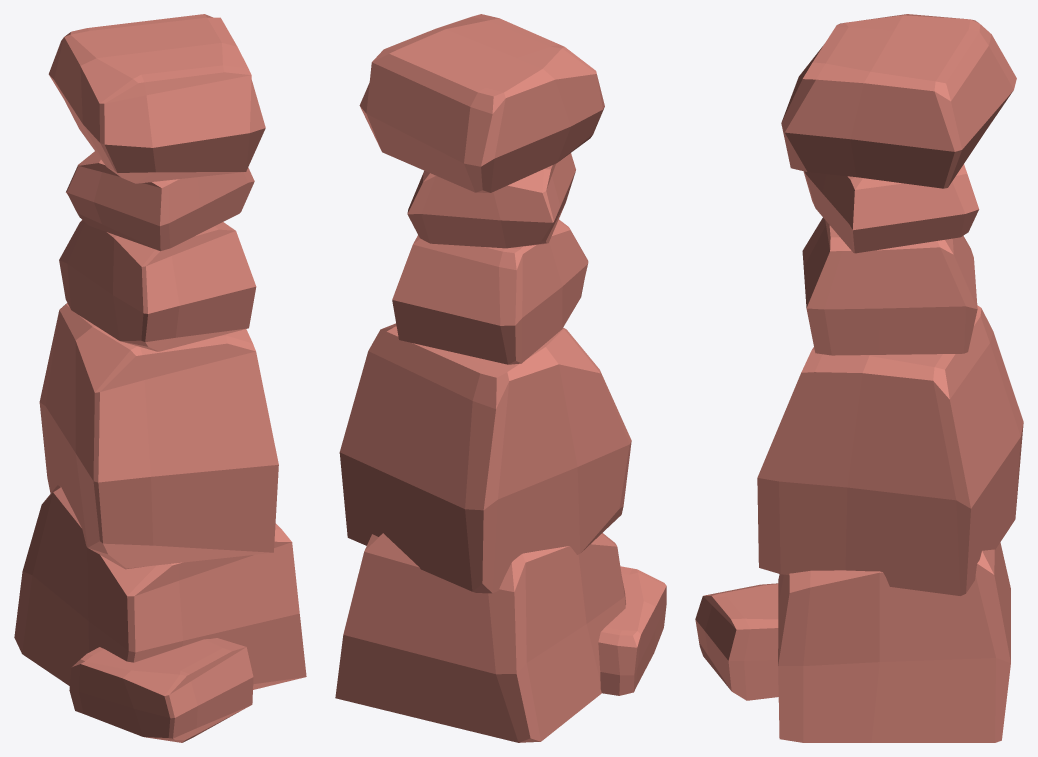
The model's file is Desert_Stone_PillerRed.fbx.
3 views of the same model, side by side, from view 1: azimuth 30°, elevation 25°; view 2: azimuth 150°, elevation 25°; view 3: azimuth 270°, elevation 25° (orthographic). The views are drawn at different scales.
Parts seen in each view (by area): view 1: Desert_Stone_PillerRed; view 2: Desert_Stone_PillerRed; view 3: Desert_Stone_PillerRed.
Part boxes in pixels (x1,y1,x2,y2): Desert_Stone_PillerRed: (14,14,306,742); Desert_Stone_PillerRed: (335,14,666,742); Desert_Stone_PillerRed: (695,14,1023,742).
Bounding box in the file's own units: 254 × 307 × 670.
